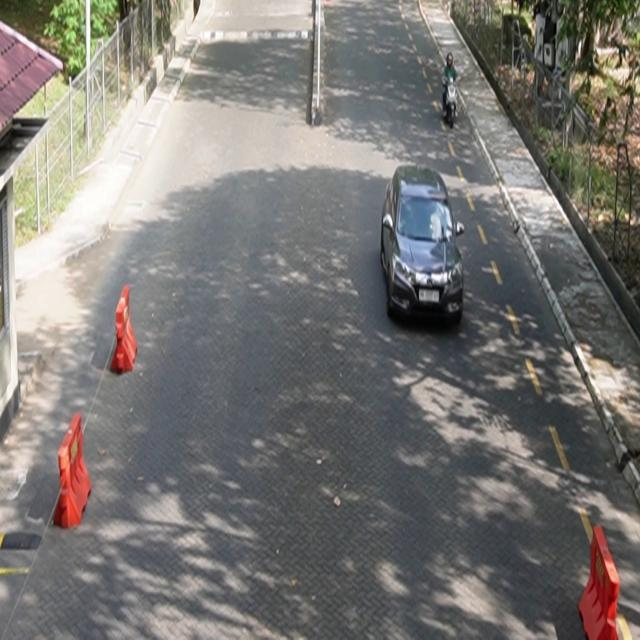car: (381, 164, 466, 325)
